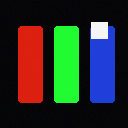1 square: (91, 22, 107, 38)
